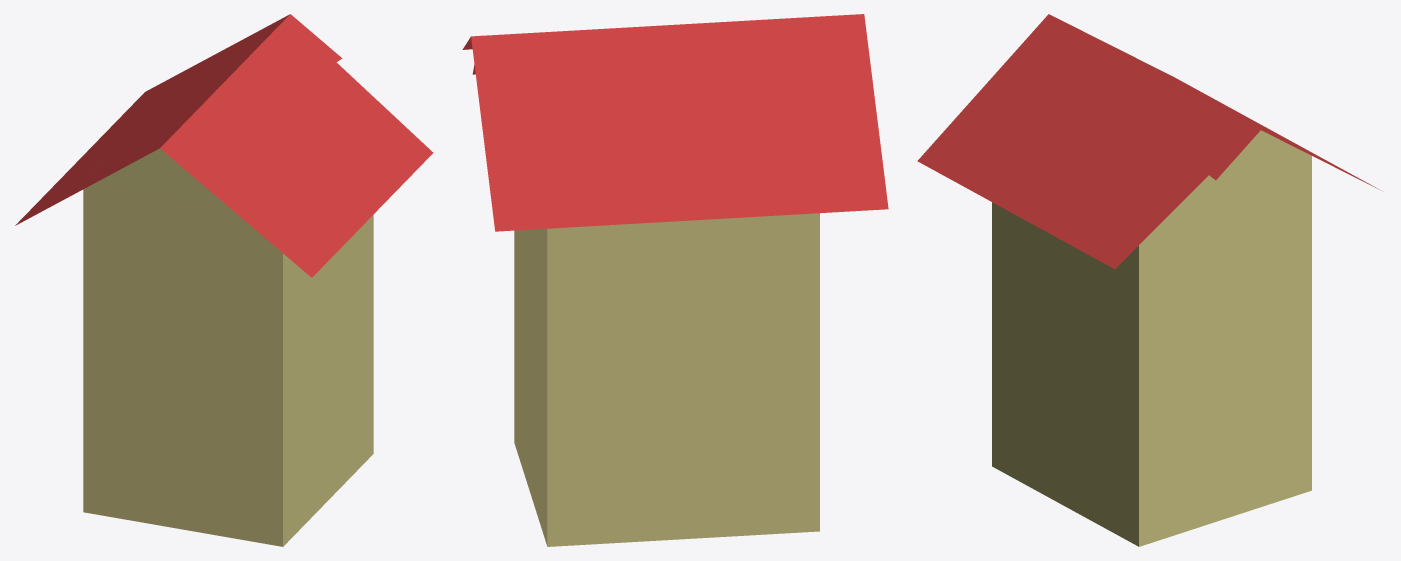
3 views of the same model, side by side, from view 1: azimuth 30°, elevation 25°; view 2: azimuth 150°, elevation 25°; view 3: azimuth 270°, elevation 25° (orthographic). The views are drawn at different scales.
Bounding box in the file's own units: 8.52 × 8.8 × 8.39.
